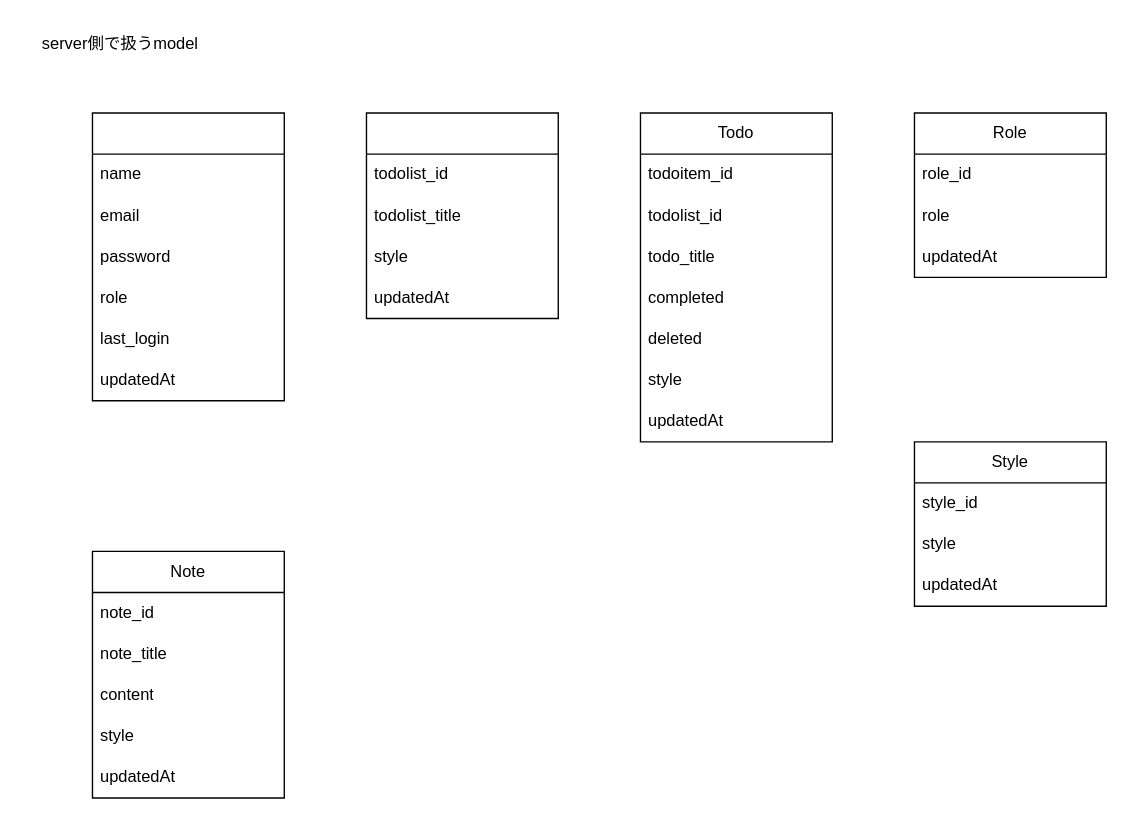
The diagram is 1130 pixels wide and 822 high, and some of its shapes have lost their labels. The box of each missing label's shape, as (x1, y1, x2, y2) in pixels:
Todolist_attrs: (365, 112, 558, 319)
User: (91, 112, 284, 401)
